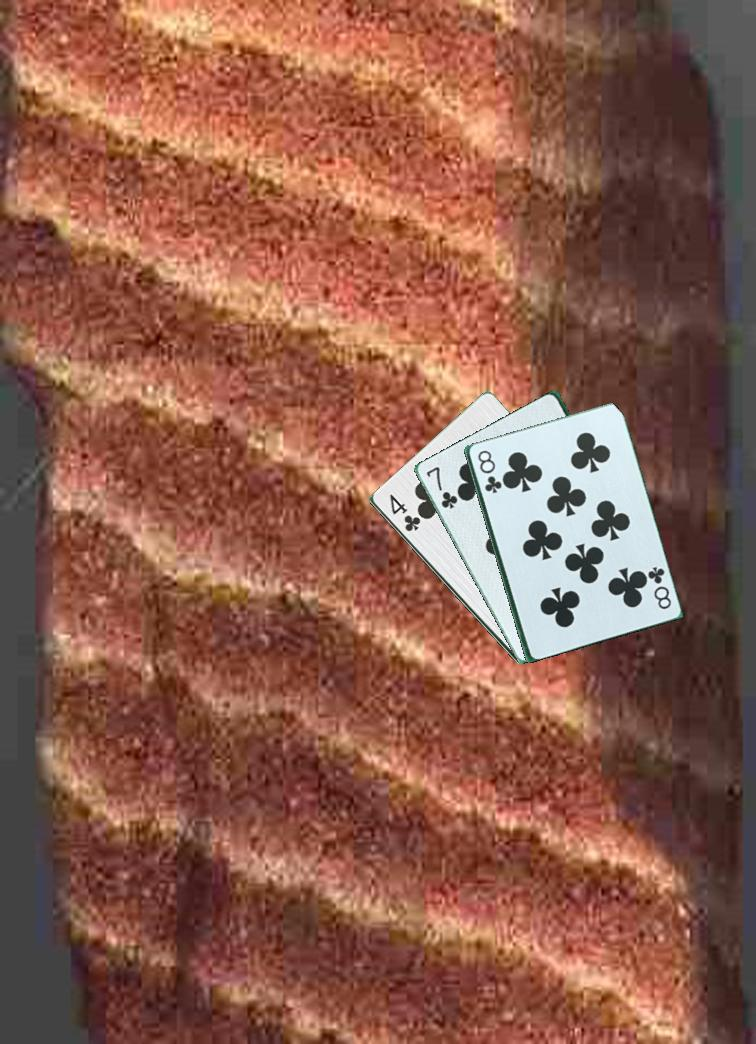4c: (385, 490, 422, 535)
7c: (422, 463, 463, 512)
8c: (644, 561, 674, 612), (474, 446, 502, 496)
